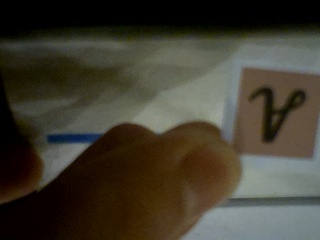A: (229, 65, 320, 159)
